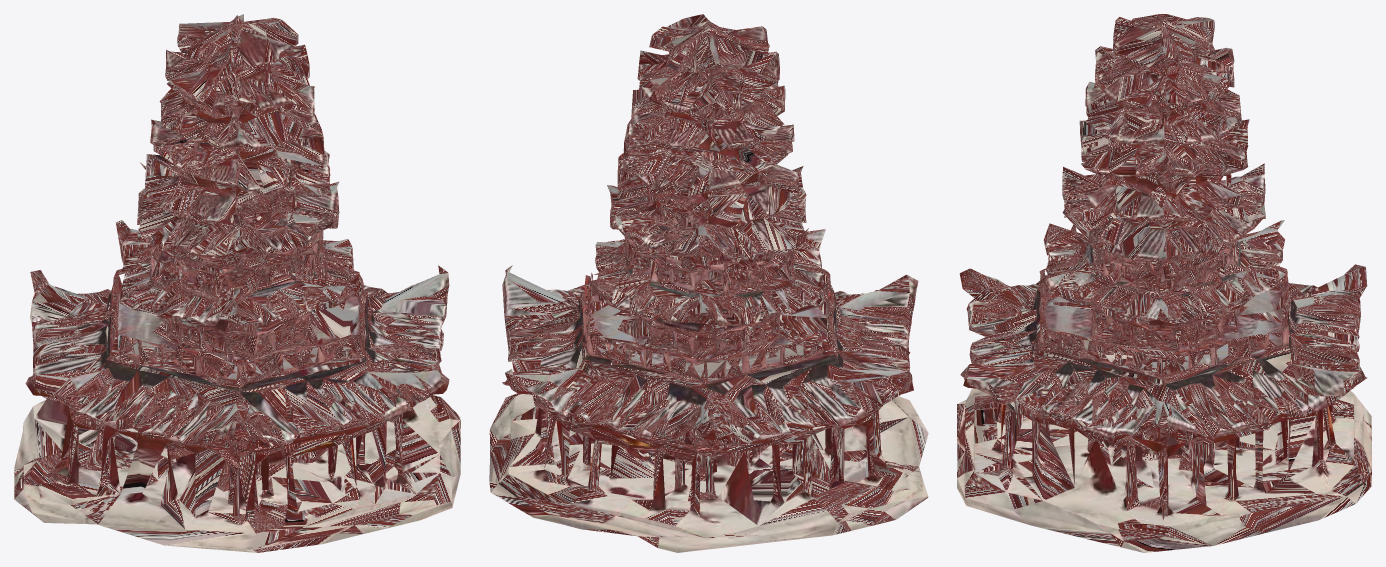
File: lib_pagoda_red.mid.glb
The picture shows the model from 3 angles, left to right: view 1: azimuth 30°, elevation 25°; view 2: azimuth 150°, elevation 25°; view 3: azimuth 270°, elevation 25°; orthographic projection. The views are drawn at different scales.
Visible parts, largest first — view 1: output_unwrapped; view 2: output_unwrapped; view 3: output_unwrapped.
Part boxes in pixels (box(x1,y1,x2,y2)): output_unwrapped: box(14, 14, 460, 552); output_unwrapped: box(489, 14, 928, 552); output_unwrapped: box(957, 14, 1371, 552).
Size of the model in its own units: 1.99 by 1.99 by 1.72.
Materials: 1 (1 with a texture image).
